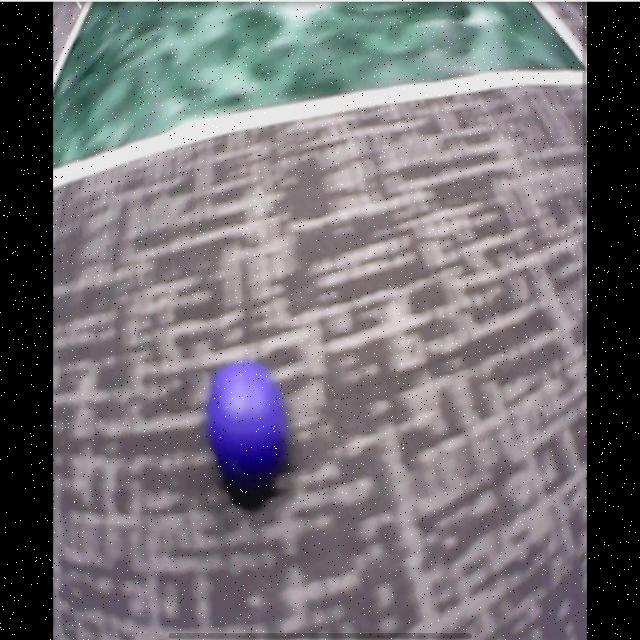ball: (211, 364, 283, 477)
